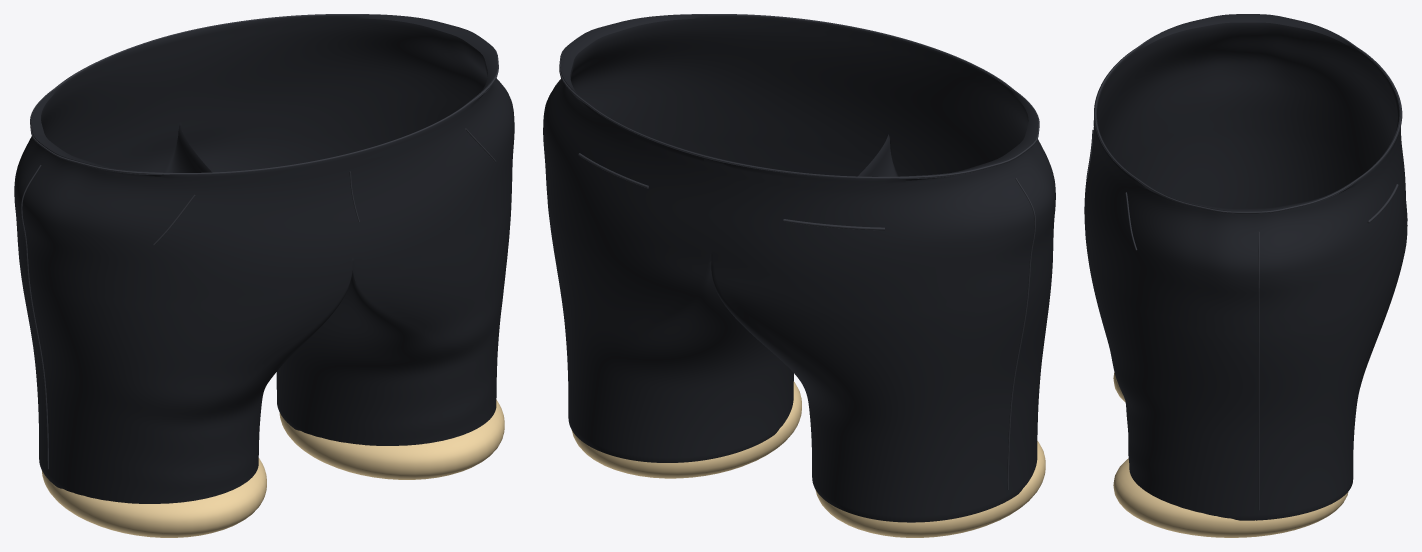
File: Masculine-pants-bottom.glb
The picture shows the model from 3 angles, left to right: view 1: azimuth 30°, elevation 25°; view 2: azimuth 150°, elevation 25°; view 3: azimuth 270°, elevation 25°; orthographic projection. The views are drawn at different scales.
Visible parts, largest first — view 1: Bottom / continuous pants187, Skin / pants foot187 1, Skin / pants foot187 -1, Bottom / pants hem187 0 export, Bottom / side seam187 -1 export; view 2: Bottom / continuous pants187, Skin / pants foot187 1, Skin / pants foot187 -1, Bottom / pants hem187 0 export, Bottom / side seam187 -1 export; view 3: Bottom / continuous pants187, Skin / pants foot187 1, Bottom / pants hem187 0 export, Bottom / side seam187 1 export.
Part boxes in pixels (<box>): Bottom / continuous pants187: <box>14,15,514,503</box>; Skin / pants foot187 1: <box>279,399,504,479</box>; Skin / pants foot187 -1: <box>41,458,266,537</box>; Bottom / pants hem187 0 export: <box>30,14,498,174</box>; Bottom / side seam187 -1 export: <box>21,165,48,469</box>; Bottom / continuous pants187: <box>543,15,1055,522</box>; Skin / pants foot187 1: <box>571,381,801,478</box>; Skin / pants foot187 -1: <box>815,441,1045,537</box>; Bottom / pants hem187 0 export: <box>559,14,1039,178</box>; Bottom / side seam187 -1 export: <box>1007,178,1035,489</box>; Bottom / continuous pants187: <box>1084,14,1407,520</box>; Skin / pants foot187 1: <box>1113,458,1348,537</box>; Bottom / pants hem187 0 export: <box>1094,29,1401,213</box>; Bottom / side seam187 1 export: <box>1258,232,1259,510</box>.
Size of the model in its own units: 0.6581 by 0.5019 by 0.4217.
